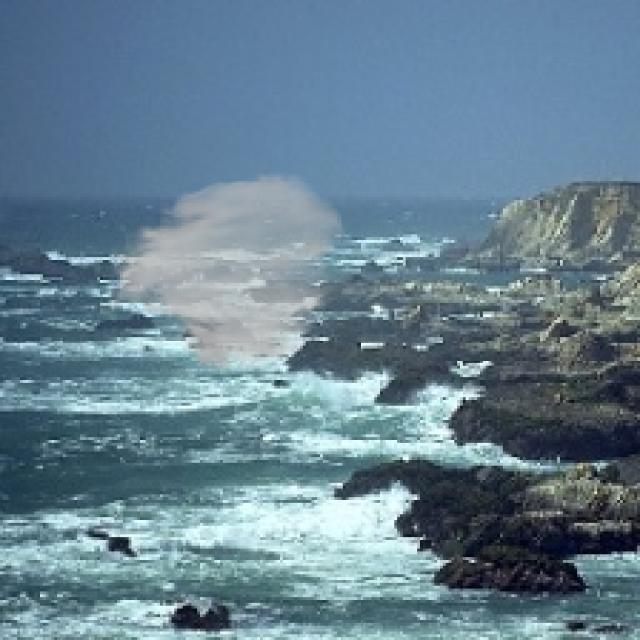Smoke: (100, 172, 349, 374)
